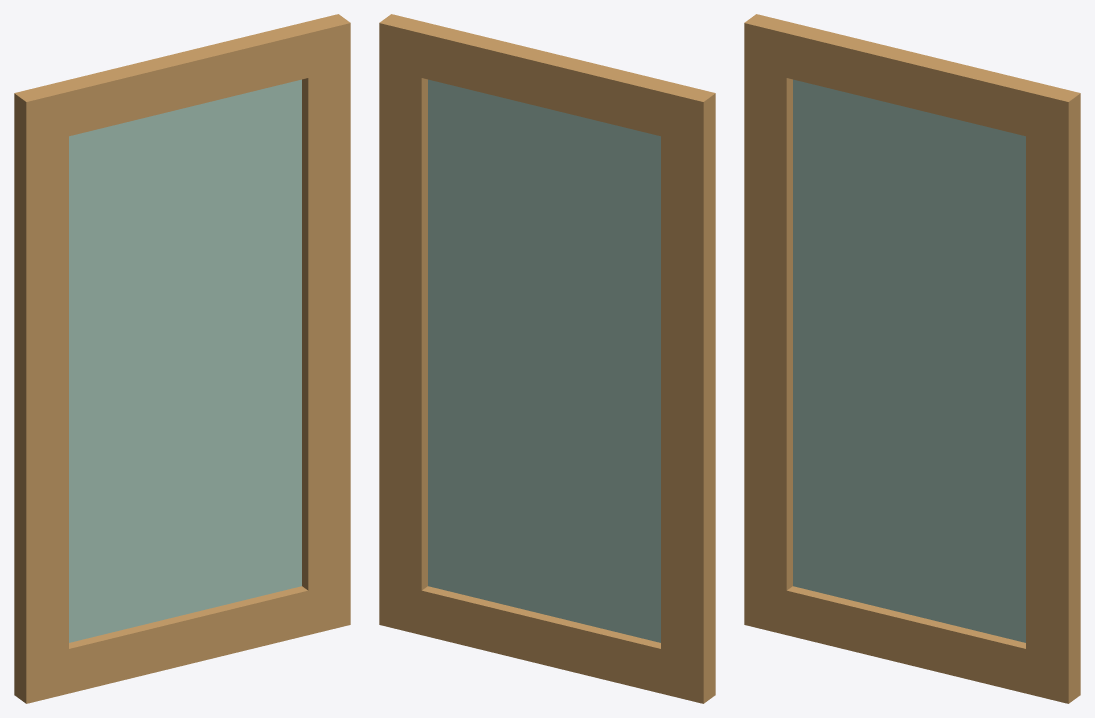
File: window.glb
3 views of the same model, side by side, from view 1: azimuth 30°, elevation 25°; view 2: azimuth 150°, elevation 25°; view 3: azimuth 330°, elevation 25° (orthographic).
Parts seen in each view (by area): view 1: wallWindow; view 2: wallWindow; view 3: wallWindow.
Part boxes in pixels (bbox=[...]): wallWindow: bbox=[14, 14, 350, 703]; wallWindow: bbox=[379, 14, 715, 703]; wallWindow: bbox=[744, 14, 1080, 703].
Size of the model in its own units: 3.75 by 6.64 by 0.2455.
